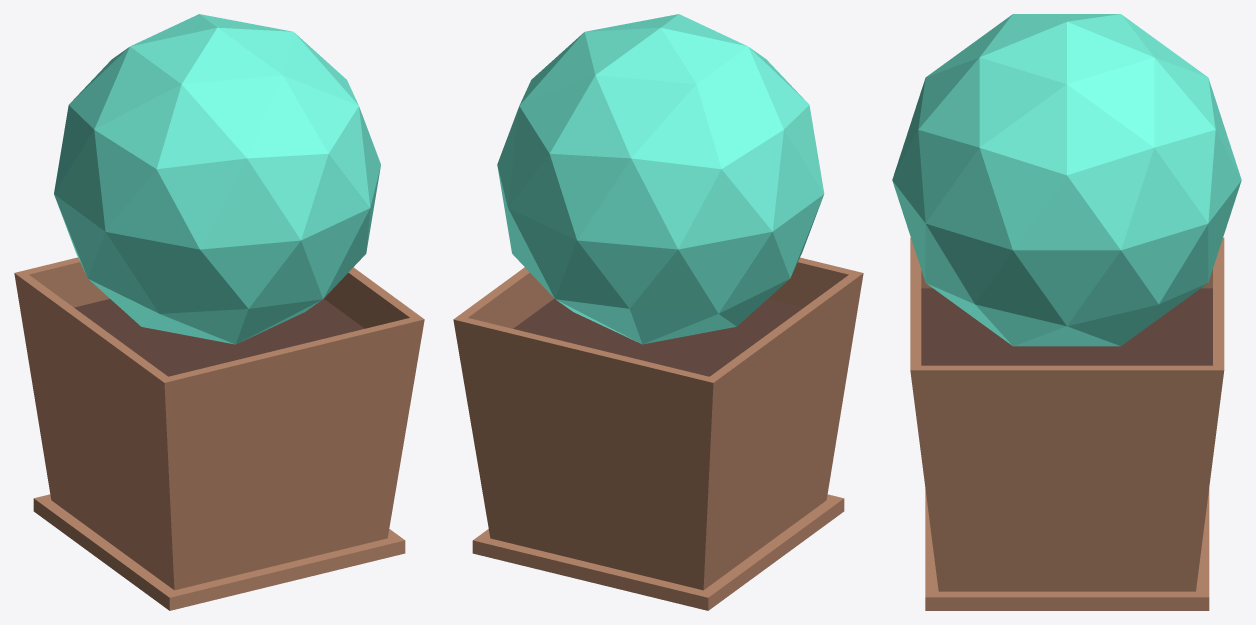
The model's file is Vase.fbx.
The picture shows the model from 3 angles, left to right: view 1: azimuth 30°, elevation 25°; view 2: azimuth 150°, elevation 25°; view 3: azimuth 270°, elevation 25°; orthographic projection. The views are drawn at different scales.
Parts seen in each view (by area): view 1: Vase.002; view 2: Vase.002; view 3: Vase.002.
Boxes of the visible parts, x1=… form: Vase.002: x1=14, y1=14, x2=424, y2=610; Vase.002: x1=453, y1=14, x2=863, y2=610; Vase.002: x1=892, y1=14, x2=1241, y2=610.
Bounding box in the file's own units: 86.17 × 151 × 90.61.
